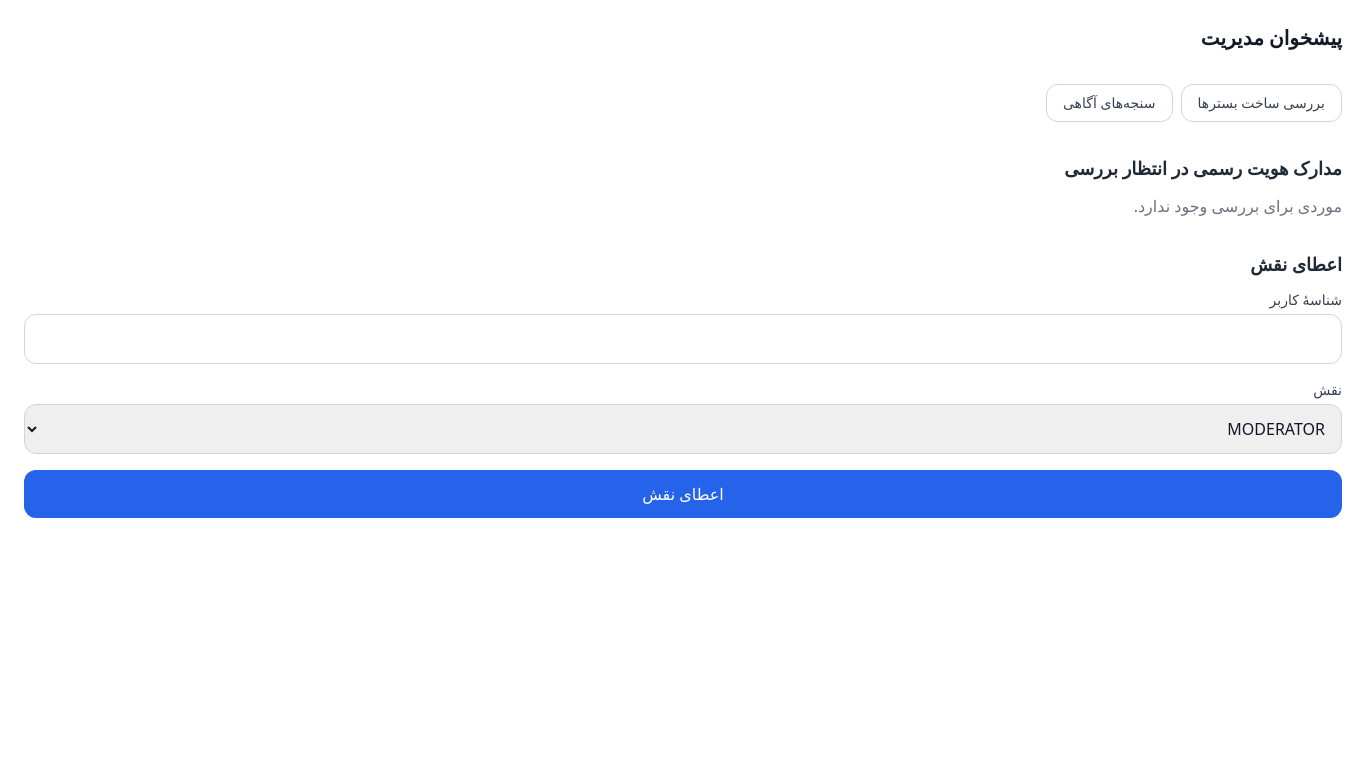
AdminDashboard › shows the server error when role assignment fails (e.g. unverified claim)
The image size is (1366, 768).
Expected: the text "موردی برای بررسی وجود ندارد." is shown, [1134, 195, 1342, 217]
In the field labelled "شناسهٔ کاربر": {"x": 683, "y": 339} [24, 314, 1342, 364], type "33333333-3333-4333-8333-333333333333"
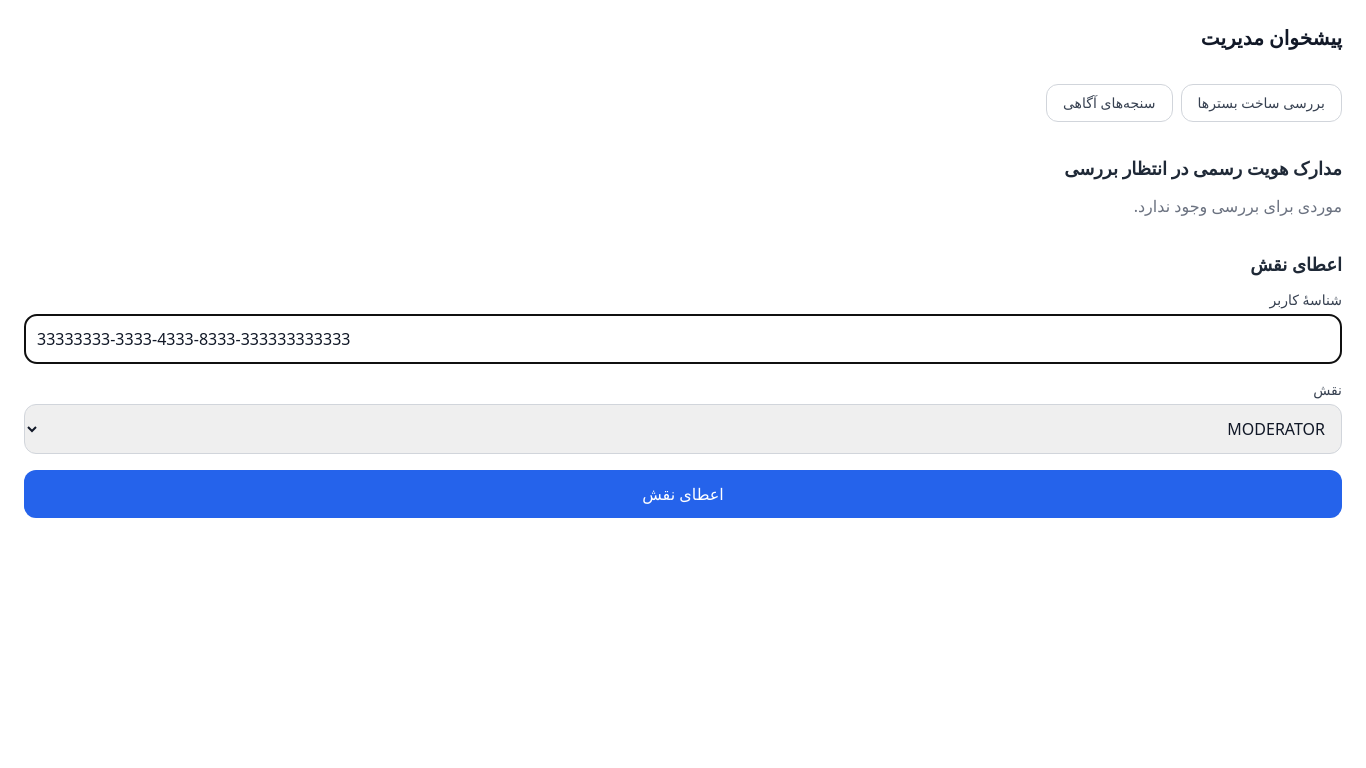
Select "SENIOR_ADMIN" in the dropdown labelled "نقش": {"x": 683, "y": 429} [24, 404, 1342, 454]
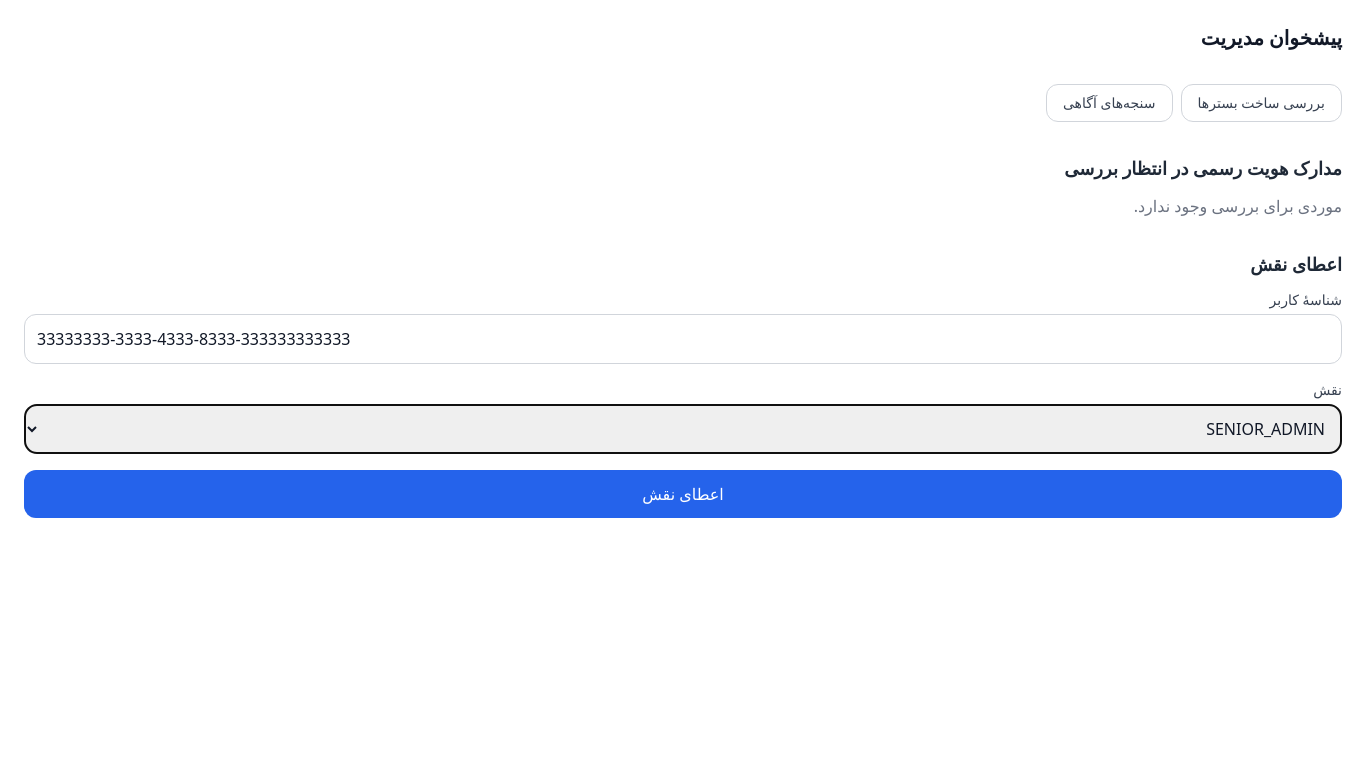
Click the button "اعطای نقش": {"x": 683, "y": 494} [24, 470, 1342, 518]
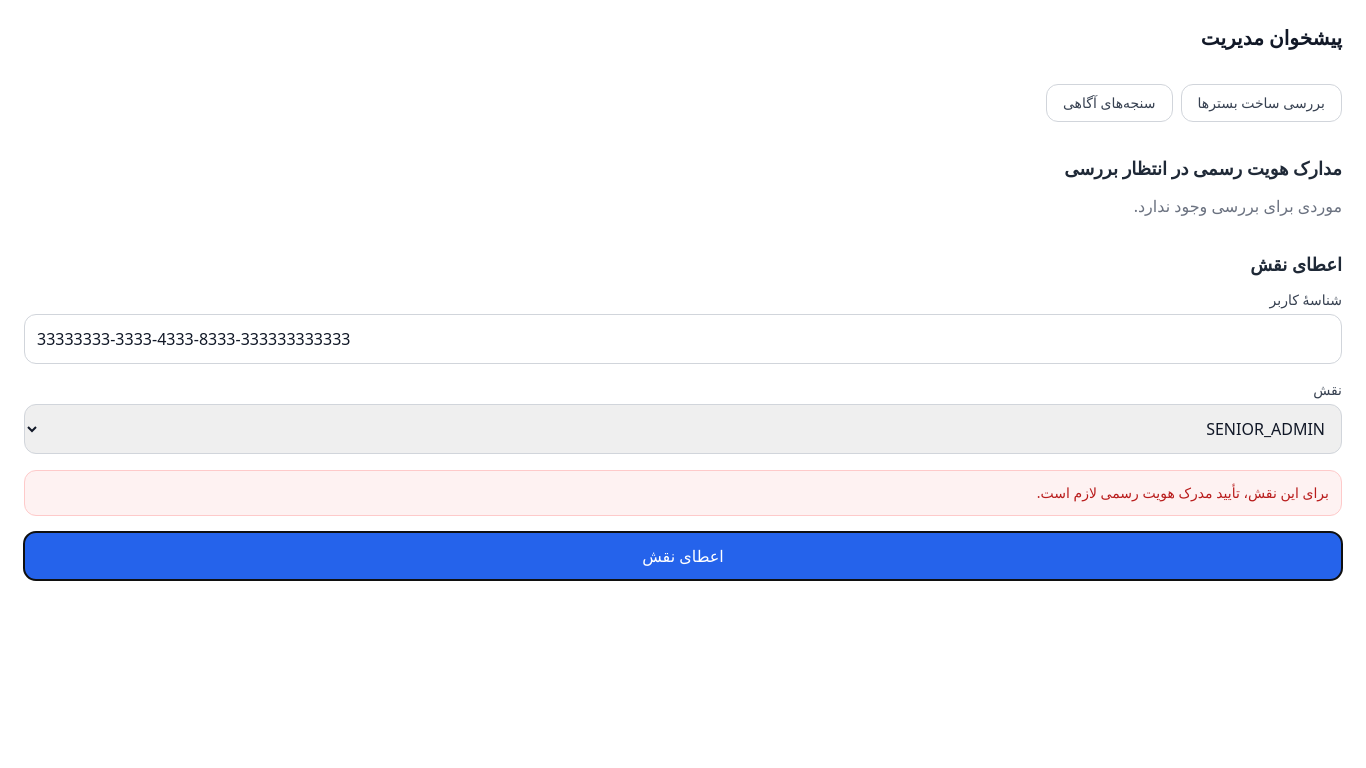
Expected: the message reads "برای این نقش، تأیید مدرک هویت رسمی لازم است.", [1037, 483, 1329, 502]
